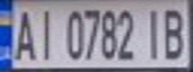0: (60, 4, 84, 61)
2: (115, 4, 142, 61)
7: (81, 4, 100, 61)
8: (100, 3, 121, 61)
A: (9, 5, 39, 62)
B: (160, 3, 190, 61)
I: (139, 3, 169, 61), (33, 3, 60, 61)
